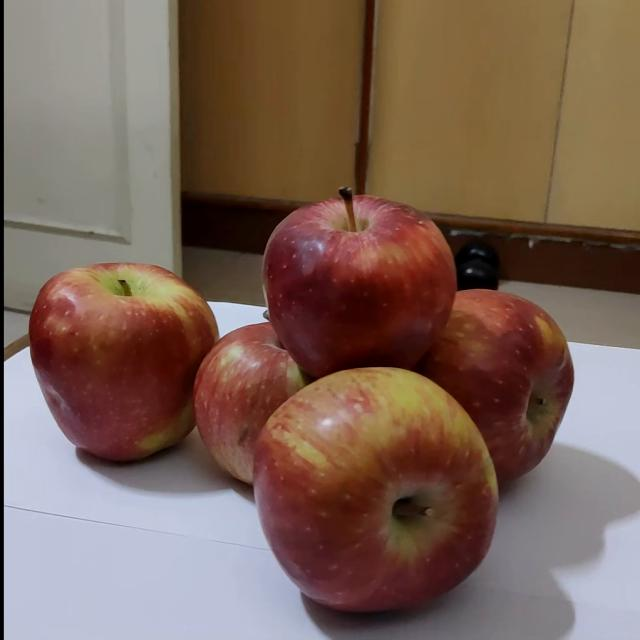apple: (213, 360, 463, 616), (16, 251, 278, 468), (353, 290, 553, 501), (245, 170, 440, 370)
